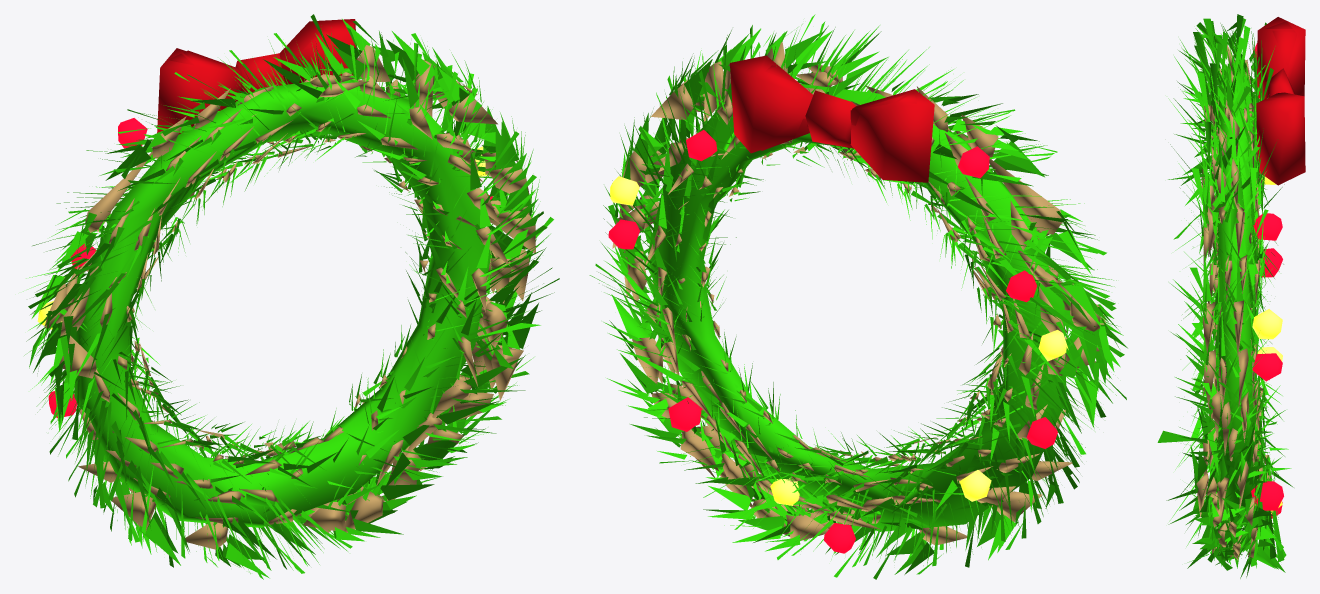
File: wreath.fbx
The picture shows the model from 3 angles, left to right: view 1: azimuth 30°, elevation 25°; view 2: azimuth 150°, elevation 25°; view 3: azimuth 270°, elevation 25°; orthographic projection. The views are drawn at different scales.
Visible parts, largest first — view 1: pnes_186; view 2: pnes_186; view 3: pnes_186.
Part boxes in pixels (left/top/right/bottom): pnes_186: left=23, top=14, right=559, bottom=579; pnes_186: left=589, top=14, right=1127, bottom=579; pnes_186: left=1157, top=14, right=1305, bottom=578.
Size of the model in its own units: 177 by 176 by 46.
